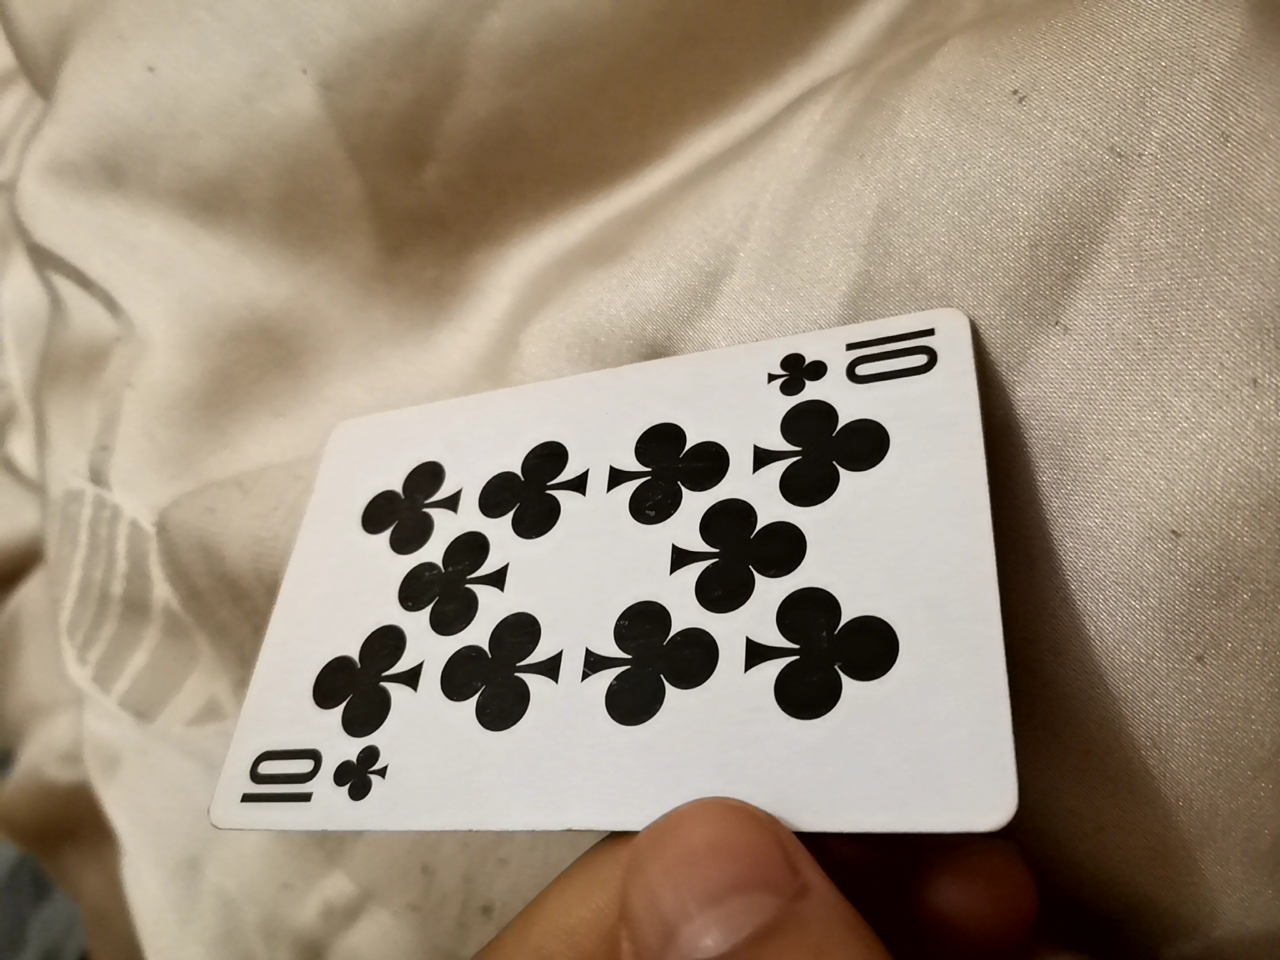mh 10: (228, 297, 1013, 849)
